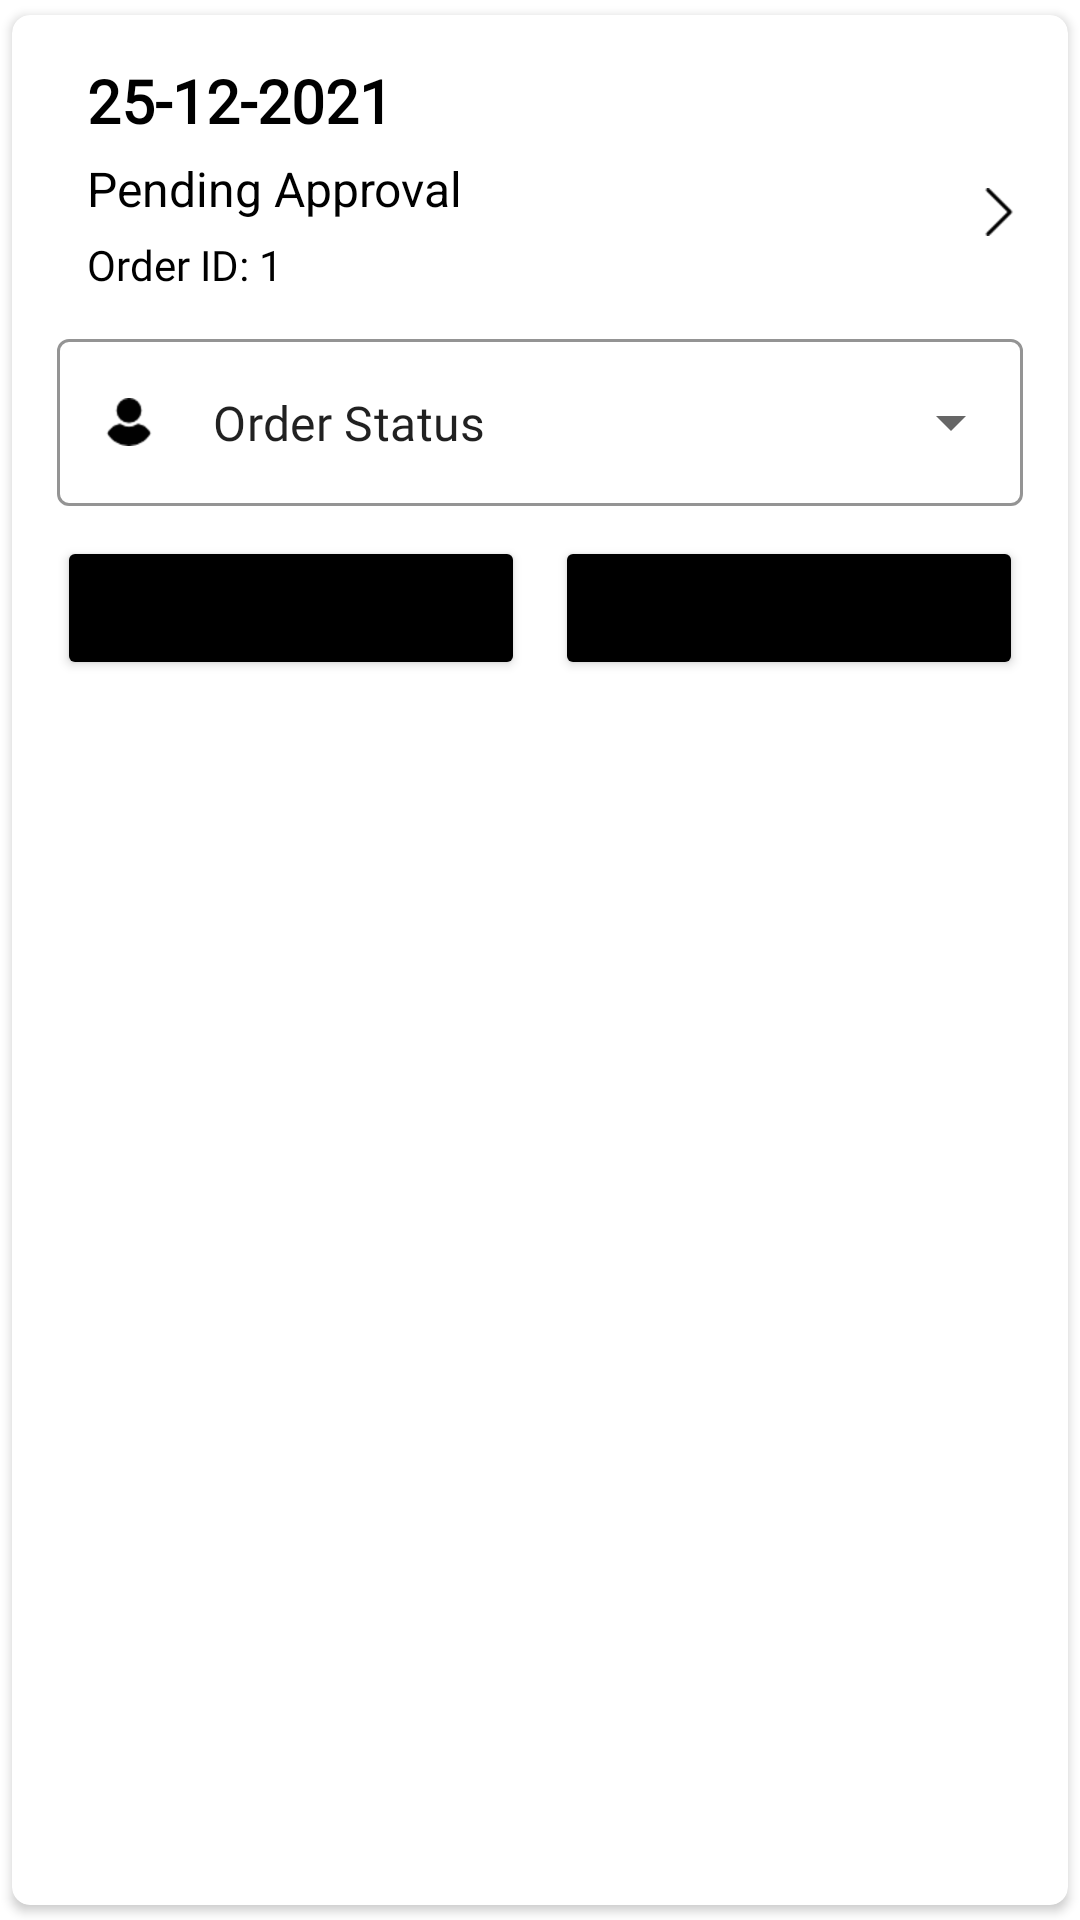

Icon click points for this 1080w x 1920h phone screenshot, format (x=x, y=y):
next: (x=999, y=212)
